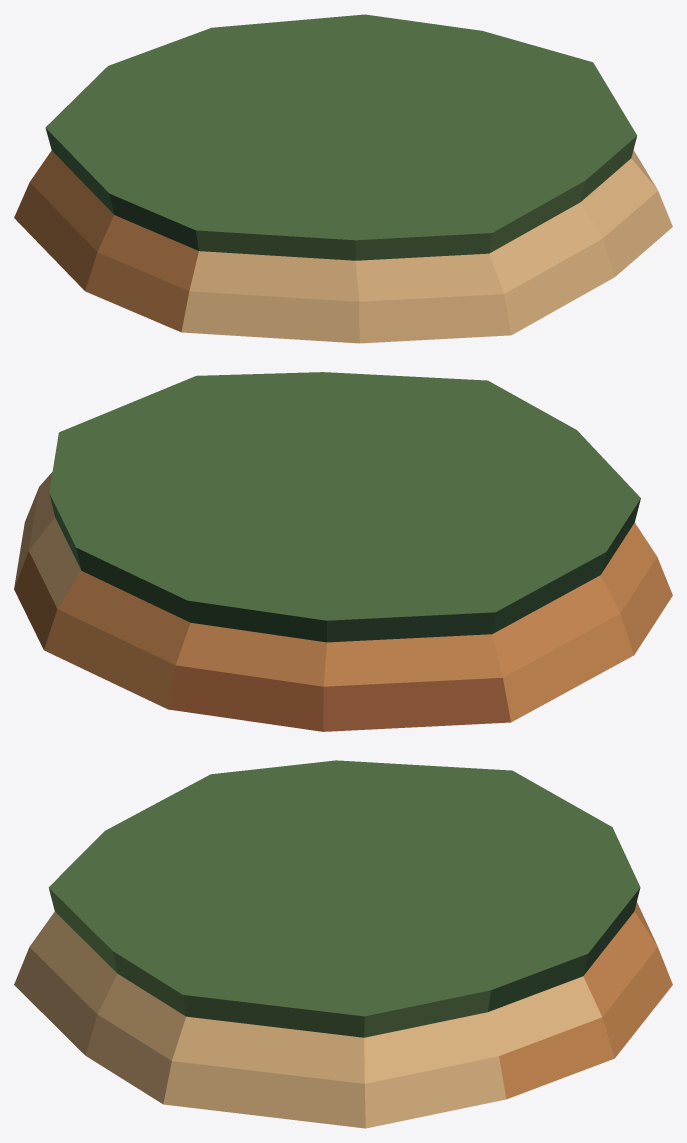
The model's file is rock_smallG.glb.
3 views of the same model, one above another, from view 1: azimuth 30°, elevation 25°; view 2: azimuth 150°, elevation 25°; view 3: azimuth 270°, elevation 25° (orthographic). The views are drawn at different scales.
Visible parts, largest first — view 1: rock_smallG.002; view 2: rock_smallG.002; view 3: rock_smallG.002.
Part boxes in pixels (<box>): rock_smallG.002: <box>14,14,672,343</box>; rock_smallG.002: <box>14,372,672,731</box>; rock_smallG.002: <box>14,760,672,1128</box>.
Size of the model in its own units: 2.4 by 0.377 by 2.34.
